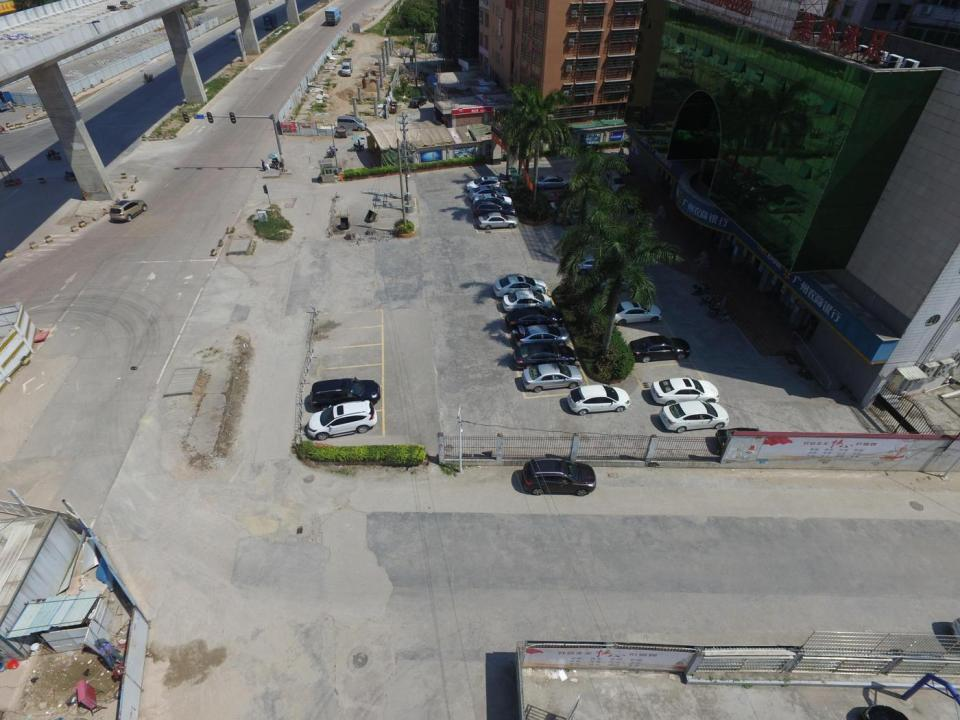car: (306, 400, 376, 441), (522, 460, 596, 496), (659, 400, 729, 432), (567, 382, 630, 415), (311, 377, 380, 403), (650, 377, 719, 403), (628, 335, 690, 363), (512, 343, 576, 369), (609, 299, 662, 324), (493, 274, 547, 298), (506, 306, 564, 328), (512, 325, 570, 346), (502, 290, 552, 313), (570, 254, 622, 275), (588, 271, 636, 291), (108, 200, 148, 222), (471, 200, 516, 216), (532, 173, 572, 190), (477, 212, 518, 228), (549, 197, 591, 212), (556, 206, 588, 225), (468, 185, 508, 200), (466, 175, 501, 192), (473, 192, 512, 206), (544, 190, 581, 204), (409, 96, 428, 108), (228, 28, 243, 39)
van: (606, 170, 627, 194), (337, 115, 367, 130), (324, 6, 342, 26), (261, 12, 278, 31), (342, 58, 353, 76), (428, 42, 440, 52)
